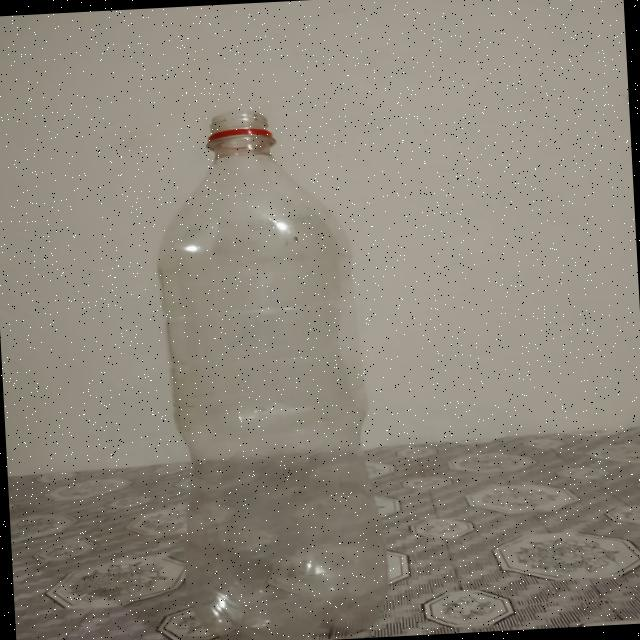bottle: (140, 103, 382, 640)
